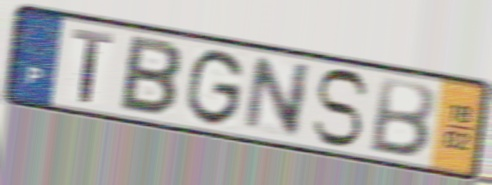B: (365, 74, 438, 161), (115, 32, 184, 120)
G: (183, 47, 247, 130)
N: (240, 54, 315, 141)
S: (309, 66, 372, 150)
T: (70, 25, 116, 107)
